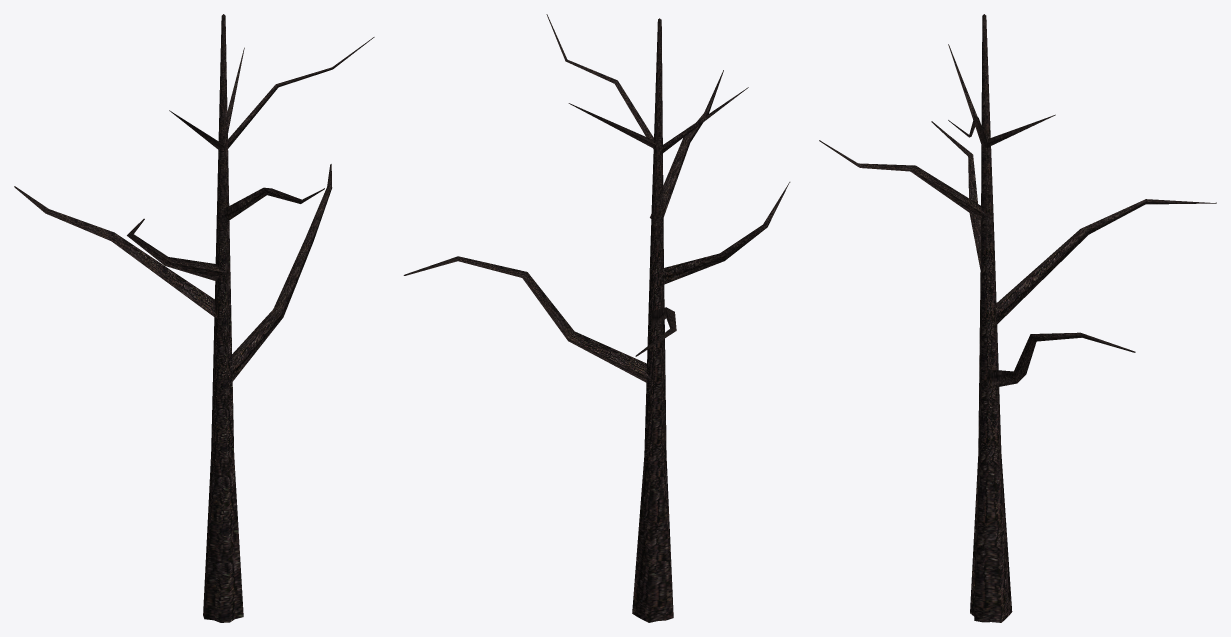
File: tree_dead.fbx
The picture shows the model from 3 angles, left to right: view 1: azimuth 30°, elevation 25°; view 2: azimuth 150°, elevation 25°; view 3: azimuth 270°, elevation 25°; orthographic projection.
Visible parts, largest first — view 1: tree_dead; view 2: tree_dead; view 3: tree_dead.
Part boxes in pixels (box(x1,y1,x2,y2)): tree_dead: box(14, 14, 374, 622); tree_dead: box(403, 14, 790, 622); tree_dead: box(819, 14, 1216, 622).
Size of the model in its own units: 426 by 845 by 508.
